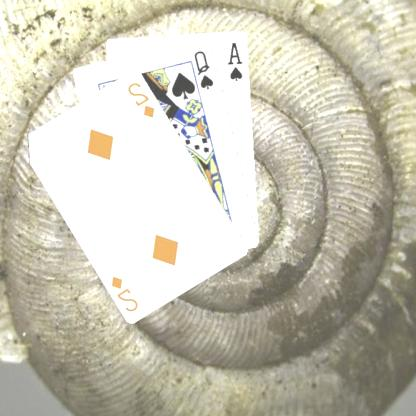2D: (126, 79, 158, 119), (110, 273, 142, 313)
AS: (227, 39, 246, 82)
QS: (193, 48, 217, 90)
